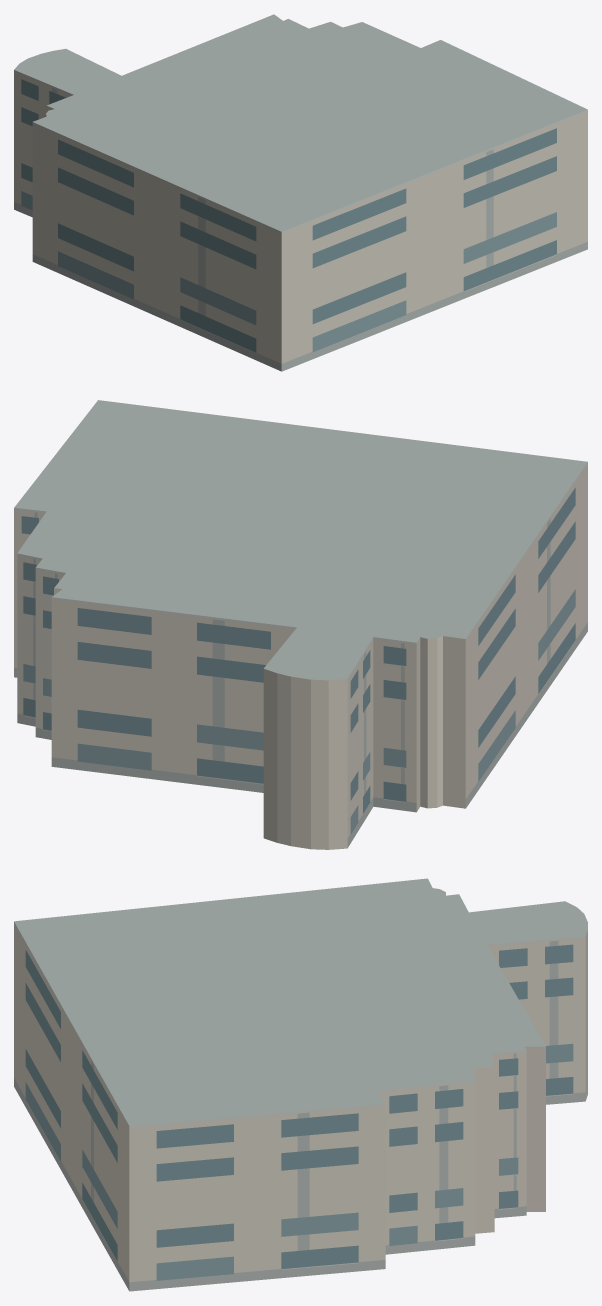
File: survey-upis-32498779.glb
3 views of the same model, one above another, from view 1: azimuth 30°, elevation 25°; view 2: azimuth 150°, elevation 25°; view 3: azimuth 270°, elevation 25° (orthographic). The views are drawn at different scales.
Parts seen in each view (by area): view 1: survey-upis-32498779.tmp; view 2: survey-upis-32498779.tmp; view 3: survey-upis-32498779.tmp.
Part boxes in pixels (x1,y1,x2,y2): survey-upis-32498779.tmp: (14, 14, 587, 371); survey-upis-32498779.tmp: (14, 400, 587, 849); survey-upis-32498779.tmp: (14, 878, 587, 1291).
Bounding box in the file's own units: 57.83 × 18 × 56.63.
